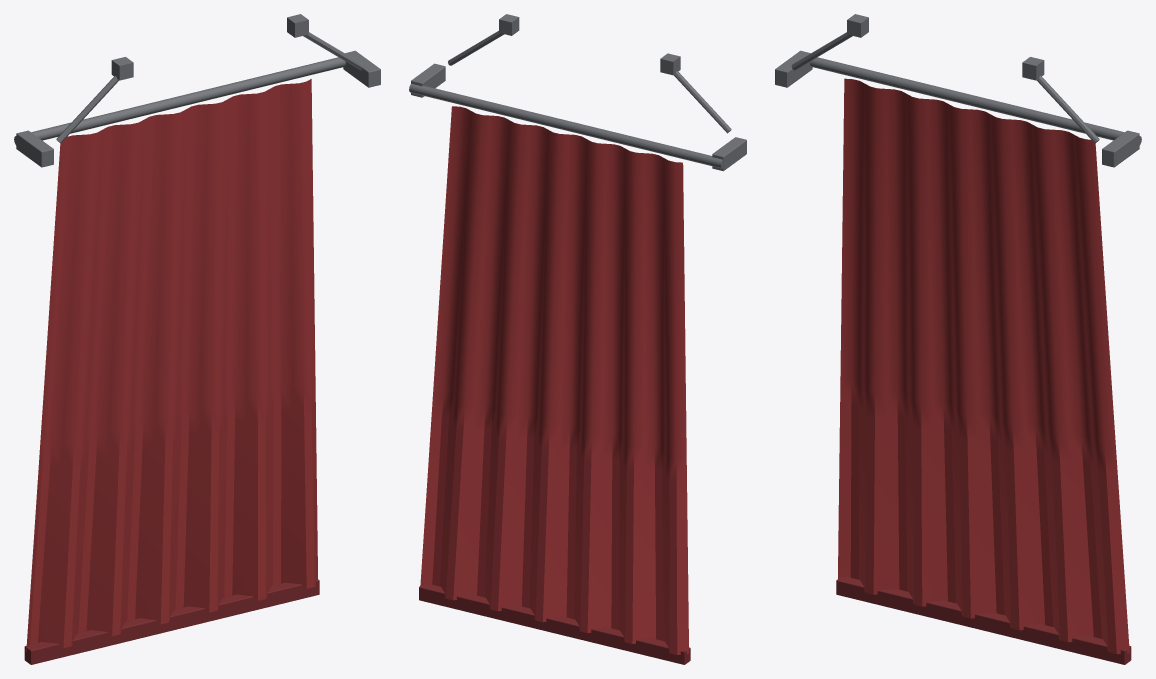
Rendered from banner.glb.
The picture shows the model from 3 angles, left to right: view 1: azimuth 30°, elevation 25°; view 2: azimuth 150°, elevation 25°; view 3: azimuth 330°, elevation 25°; orthographic projection. The views are drawn at different scales.
Visible parts, largest first — view 1: Env_banner; view 2: Env_banner; view 3: Env_banner.
Part boxes in pixels (box(x1,y1,x2,y2)): Env_banner: box(14, 14, 380, 664); Env_banner: box(409, 14, 746, 664); Env_banner: box(775, 14, 1141, 664).
Size of the model in its own units: 5.35 by 9.27 by 1.28.
